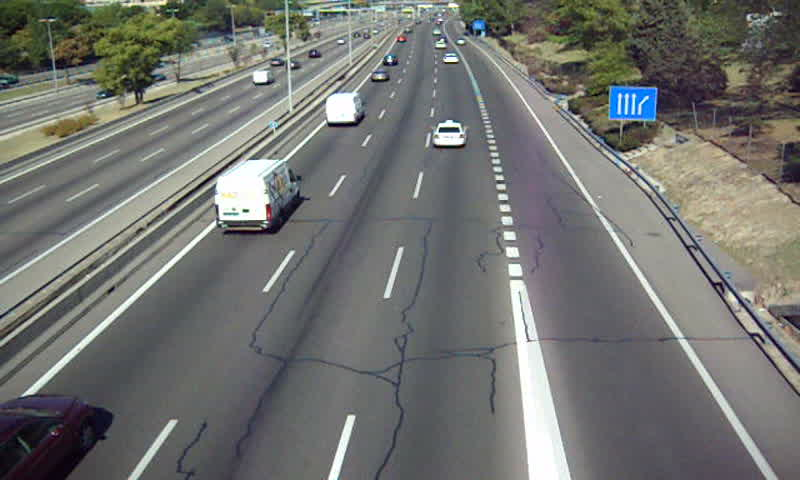car: (432, 121, 466, 148), (369, 70, 389, 84), (382, 53, 398, 68), (442, 53, 460, 66)
van: (214, 159, 302, 232), (324, 93, 364, 124)
